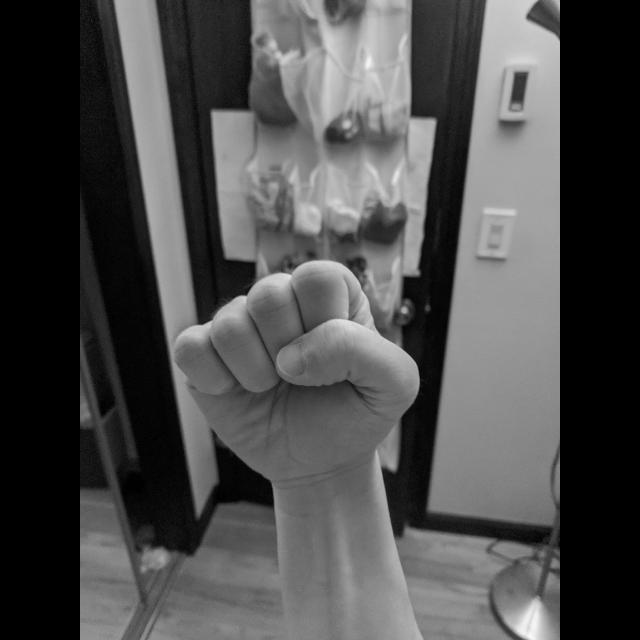S: (168, 254, 426, 486)
